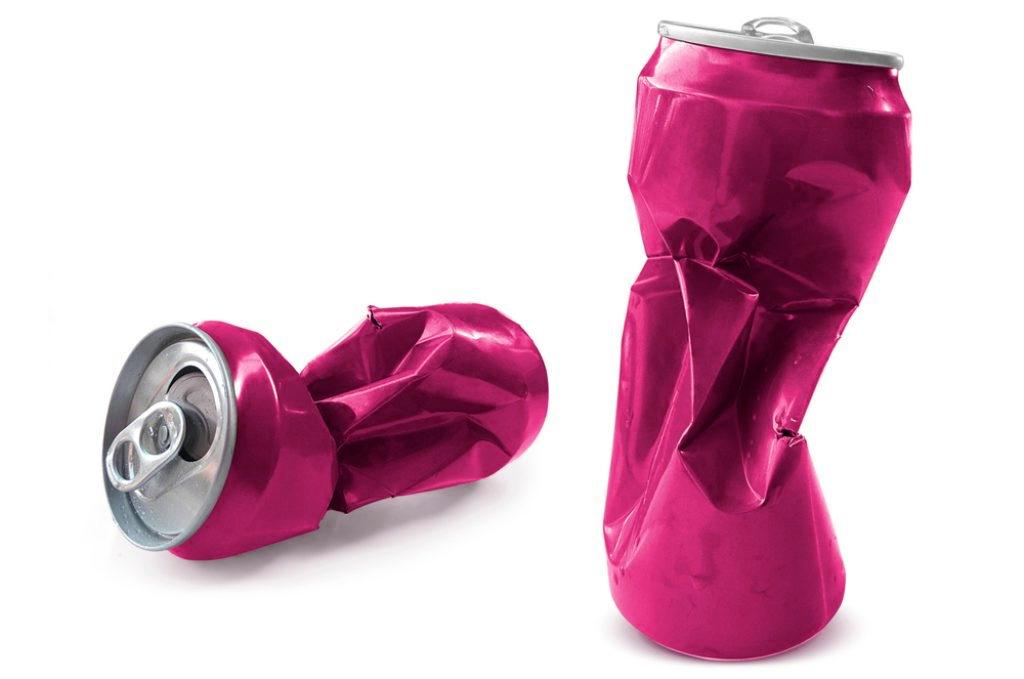Metal: (590, 10, 919, 664), (98, 289, 559, 573)
